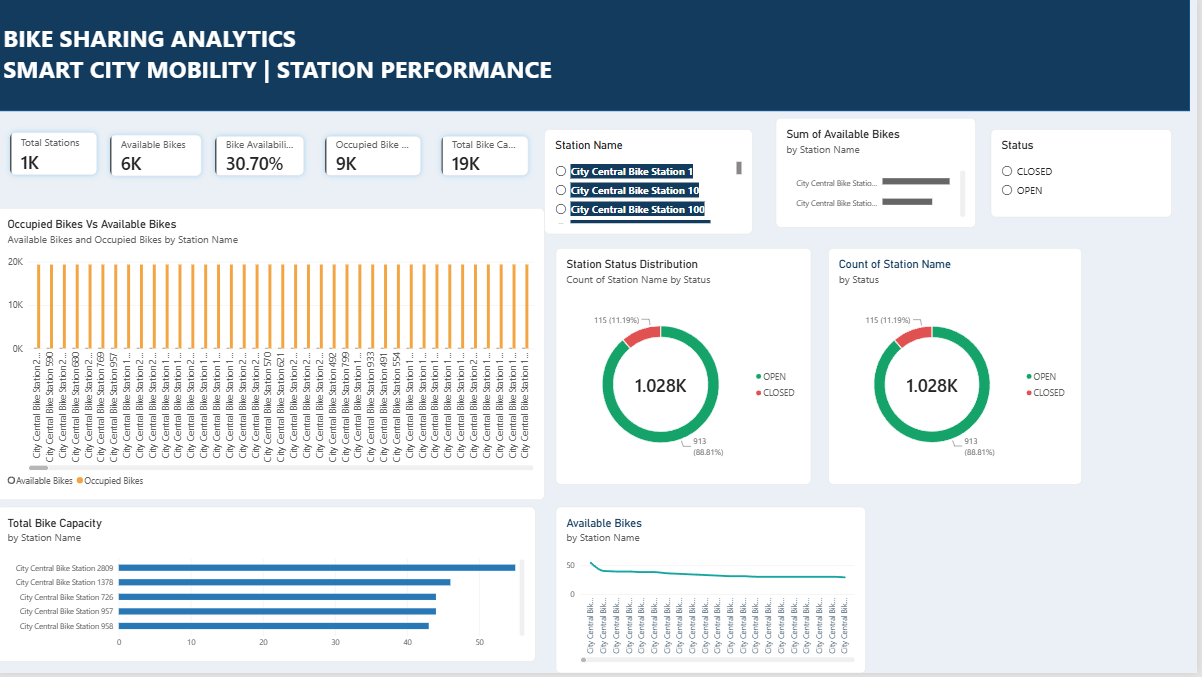

The dashboard page shown, as its layout file describes it:
{"tool":"powerbi","page":{"name":"Bike Sharing Dashboard","canvas":[1920,1080],"ordinal":1},"visuals":[{"type":"shape","box":[0,1.8,1909,179],"z":0},{"type":"textbox","box":[10.9,38,1909.2,130.3],"z":1000},{"type":"cardVisual","fields":{"Data":["Dim_Station.Total Stations"]},"box":[10.9,204.5,161.1,90.5],"z":1001},{"type":"cardVisual","fields":{"Data":["Dim_Station.Total Bike Capacity"]},"box":[700.3,209.9,161.1,85.1],"z":1002},{"type":"cardVisual","fields":{"Data":["Dim_Station.Available Bikes"]},"box":[170,208,168,88],"z":1003},{"type":"cardVisual","fields":{"Data":["Dim_Station.Bike Availability %"]},"box":[338.4,209.9,164.7,85.1],"z":1004},{"type":"clusteredBarChart","fields":{"Category":["Dim_Station.Station Name"],"Y":["Sum(Fact_BikeAvailability.Available Bikes)"]},"box":[1246,192,320.3,175.5],"z":1005},{"type":"cardVisual","fields":{"Data":["Dim_Station.Occupied Bike Stands"]},"box":[513.9,209.9,175.5,85.1],"z":1006},{"type":"listSlicer","fields":{"Values":["Dim_Station.Station Name"]},"box":[875.9,209.9,333,168.3],"z":1007},{"type":"listSlicer","fields":{"Values":["Dim_Station.Status"]},"box":[1590,210,289.5,141.2],"z":1008},{"type":"clusteredColumnChart","title":"Occupied Bikes Vs Available Bikes","fields":{"Category":["Dim_Station.Station Name"],"Y":["Dim_Station.Available Bikes","Dim_Station.Occupied Bikes"]},"box":[0,336.6,875.9,466.9],"z":1009},{"type":"donutChart","fields":{"Category":["Dim_Station.Status"],"Y":["CountNonNull(Dim_Station.Station Name)"]},"box":[1330.1,399.9,405.4,378.2],"z":1010},{"type":"donutChart","title":"Station Status Distribution","fields":{"Category":["Dim_Station.Status"],"Y":["CountNonNull(Dim_Station.Station Name)"]},"box":[894,399.9,409,378.2],"z":1011},{"type":"clusteredBarChart","fields":{"Category":["Dim_Station.Station Name"],"Y":["Dim_Station.Total Bike Capacity"]},"box":[0,814.3,861.4,247.9],"z":1012},{"type":"lineChart","fields":{"Category":["Dim_Station.Station Name"],"Y":["Dim_Station.Available Bikes"]},"box":[894,814.3,495.8,266],"z":1013}]}

Visuals, with their boxes in screenshot pixels (x1, y1, x2, y2), scaled from the page's 1920x1080 canvas onto the 1202x677 screenshot:
shape: box(0, 1, 1195, 113)
textbox: box(7, 24, 1201, 105)
cardVisual - Dim_Station.Total Stations: box(7, 128, 108, 185)
cardVisual - Dim_Station.Total Bike Capacity: box(438, 132, 539, 185)
cardVisual - Dim_Station.Available Bikes: box(106, 130, 212, 186)
cardVisual - Dim_Station.Bike Availability %: box(212, 132, 315, 185)
clusteredBarChart - Dim_Station.Station Name x Sum(Fact_BikeAvailability.Available Bikes): box(780, 120, 981, 230)
cardVisual - Dim_Station.Occupied Bike Stands: box(322, 132, 432, 185)
listSlicer - Dim_Station.Station Name: box(548, 132, 757, 237)
listSlicer - Dim_Station.Status: box(995, 132, 1177, 220)
"Occupied Bikes Vs Available Bikes" clusteredColumnChart: box(0, 211, 548, 504)
donutChart - Dim_Station.Status x CountNonNull(Dim_Station.Station Name): box(833, 251, 1086, 488)
"Station Status Distribution" donutChart: box(560, 251, 816, 488)
clusteredBarChart - Dim_Station.Station Name x Dim_Station.Total Bike Capacity: box(0, 510, 539, 666)
lineChart - Dim_Station.Station Name x Dim_Station.Available Bikes: box(560, 510, 870, 676)
